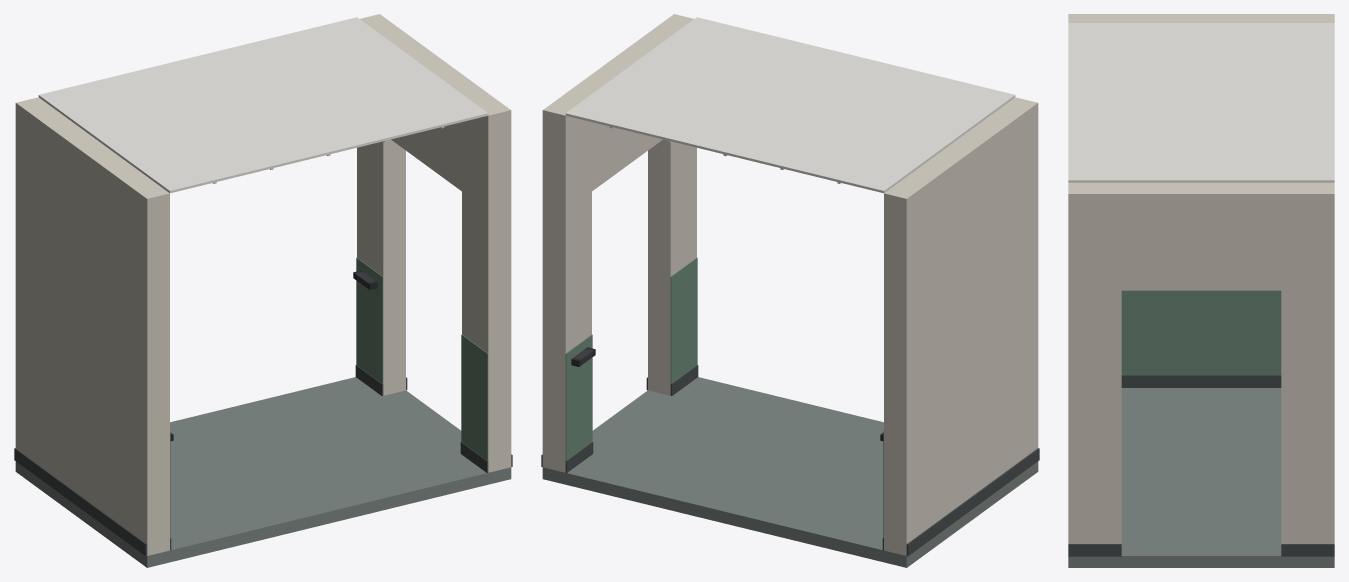
The model's file is MOD_Corridor_Straight_2m_DoorEast1200.glb.
3 renders of one model, left to right at view 1: azimuth 30°, elevation 25°; view 2: azimuth 150°, elevation 25°; view 3: azimuth 270°, elevation 25°, orthographic.
Parts seen in each view (by area): view 1: MOD_Corridor_Straight_2m_DoorEast1200_Mesh; view 2: MOD_Corridor_Straight_2m_DoorEast1200_Mesh; view 3: MOD_Corridor_Straight_2m_DoorEast1200_Mesh.
Boxes of the visible parts, box(x1,y1,x2,y2) form: MOD_Corridor_Straight_2m_DoorEast1200_Mesh: box(14, 14, 512, 567); MOD_Corridor_Straight_2m_DoorEast1200_Mesh: box(541, 14, 1039, 567); MOD_Corridor_Straight_2m_DoorEast1200_Mesh: box(1068, 14, 1334, 567).
Size of what is drawn, in the model's own units: 3.22 by 3.12 by 2.
